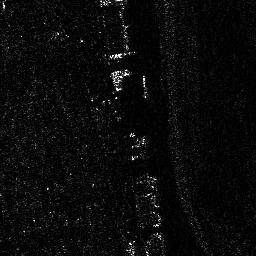ship: (142, 74, 148, 100)
